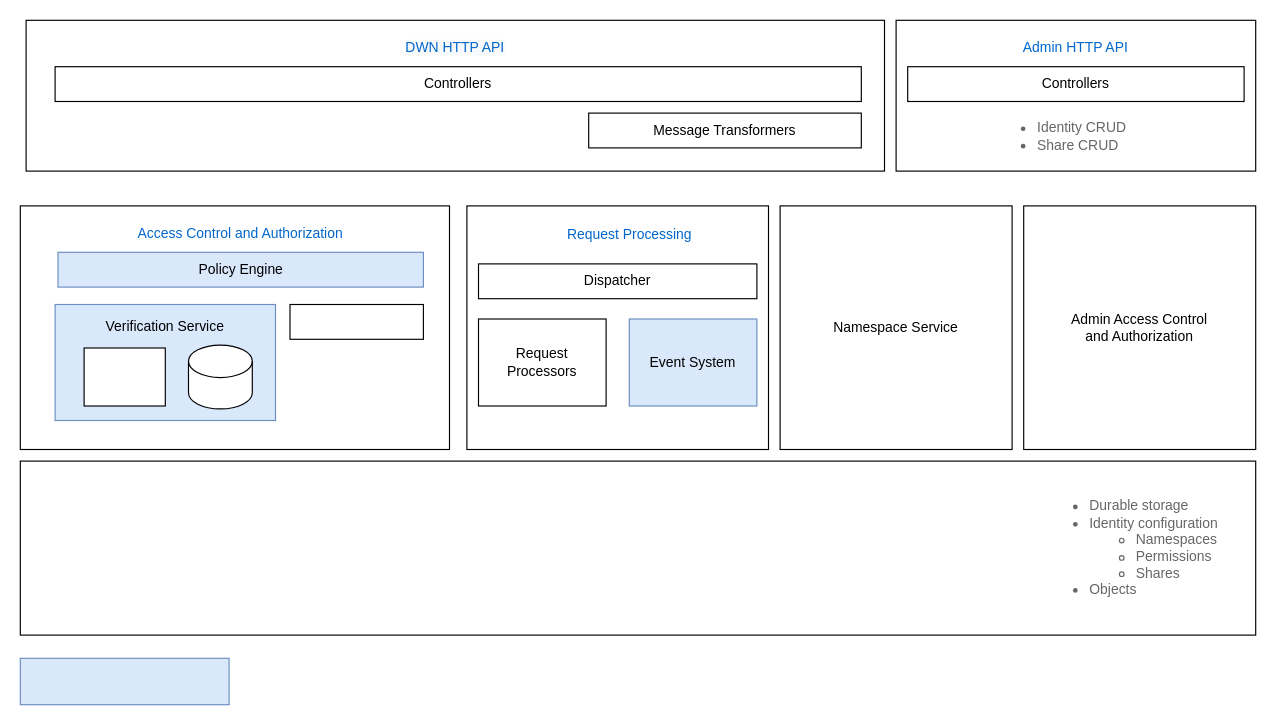
Some shapes in this 1276 by 725 pixel diagram are drawn without their labels. The shapes that lost their labels are listed below. From the top down, each one's box as (x1, y1, x2, y2) in pixels, then its label:
(289, 303, 423, 339): Permission Service
(83, 347, 165, 406): DID Resolvers
(187, 344, 252, 409): Cache
(19, 460, 1256, 635): Hub Store
(19, 657, 229, 705): Transaction Service
